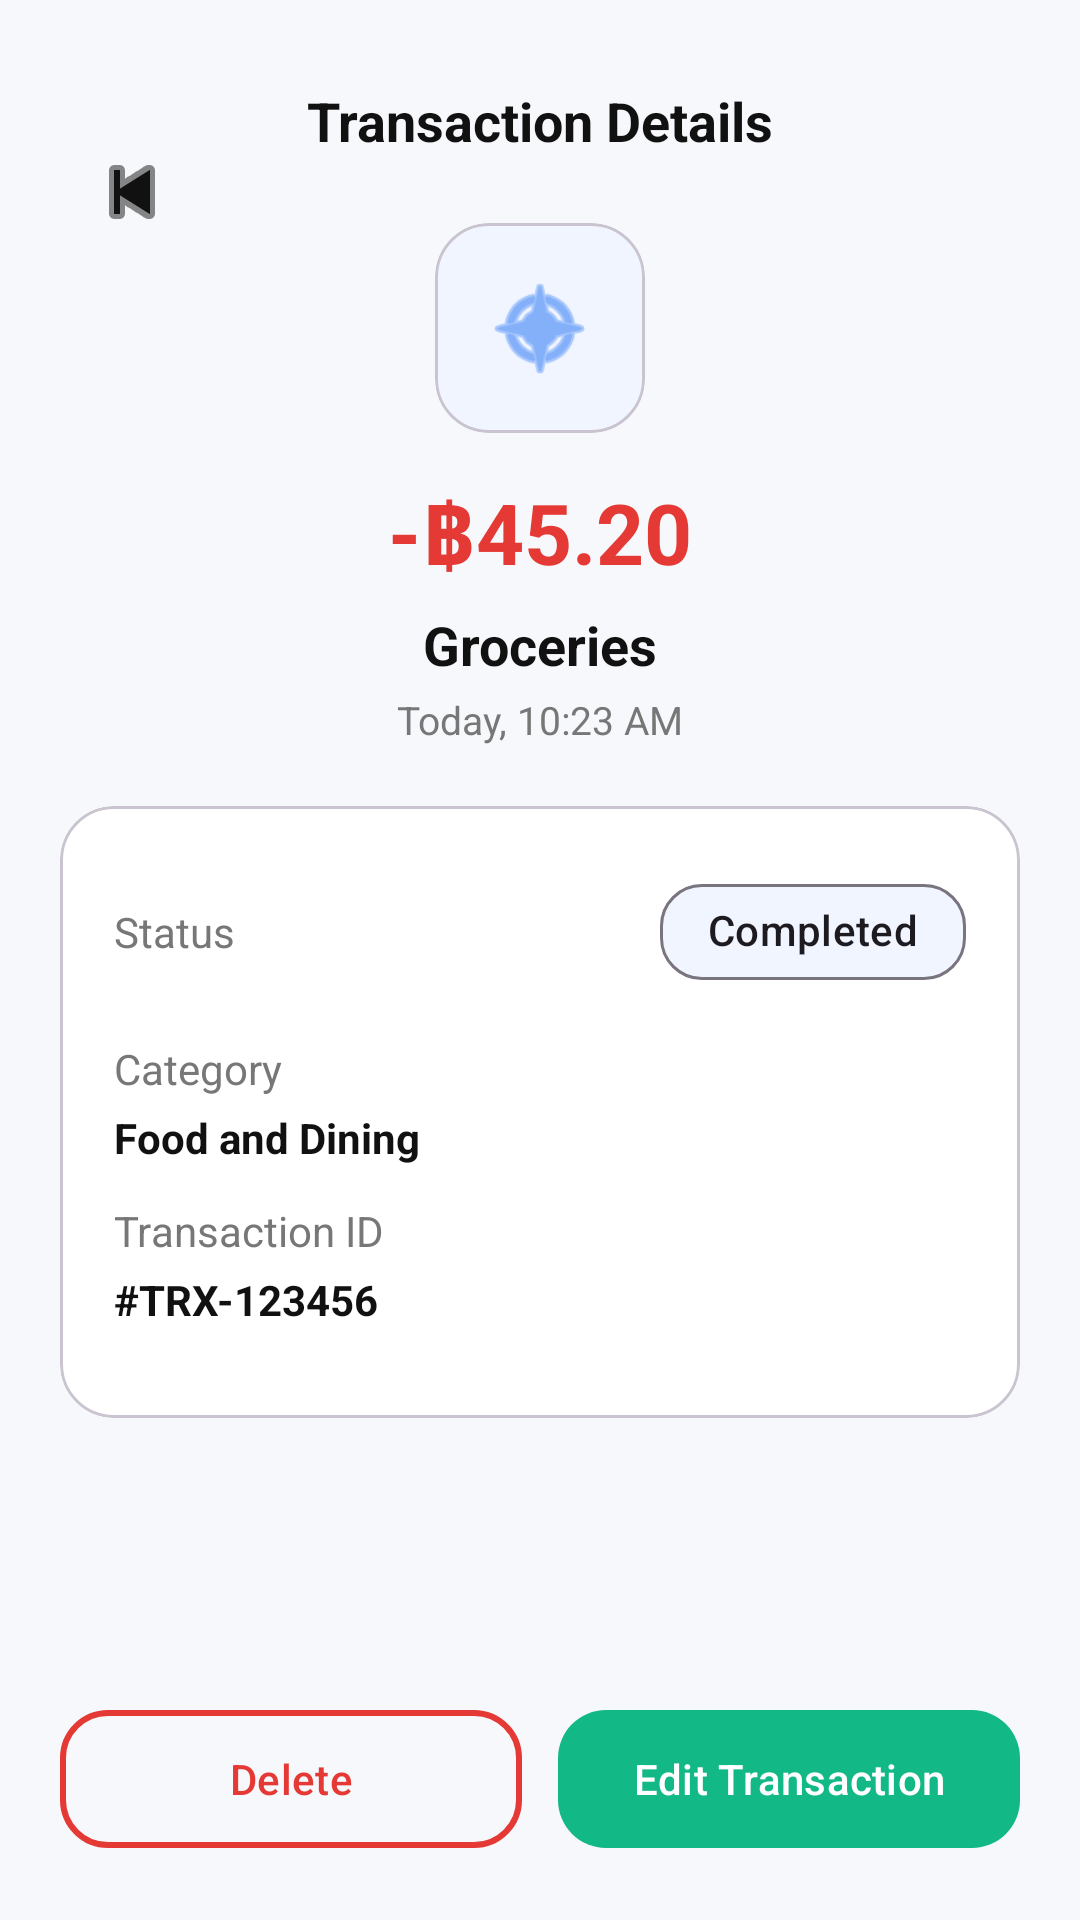

Named icons in this screenshot (1080*1920) and their centers, [x,y]:
Back: [132,192]
compass: [540,328]
